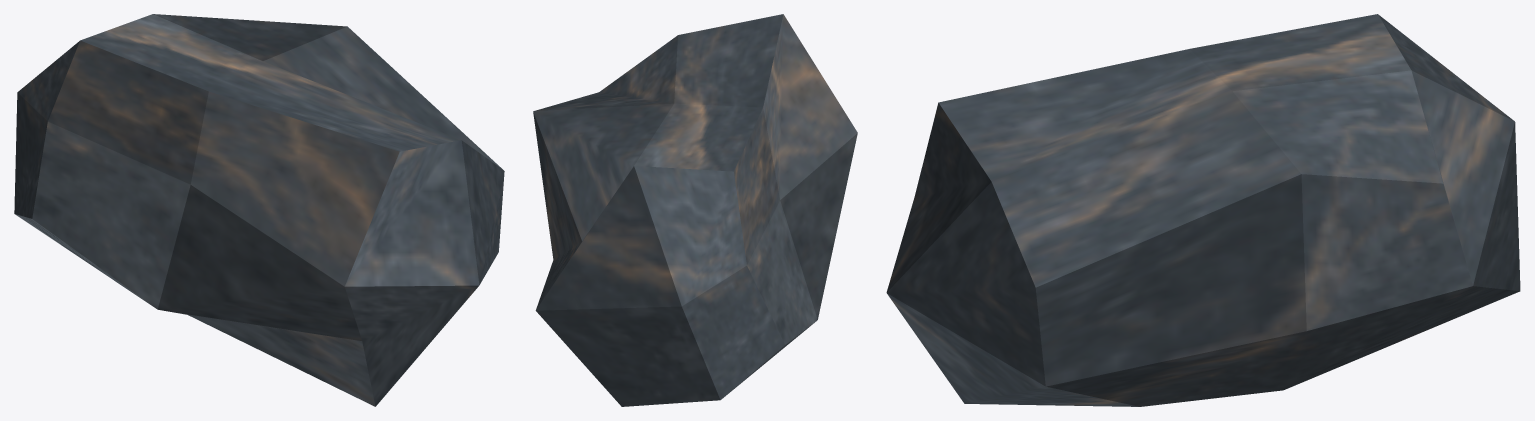
Rendered from low_poly_rock.glb.
The picture shows the model from 3 angles, left to right: view 1: azimuth 30°, elevation 25°; view 2: azimuth 150°, elevation 25°; view 3: azimuth 270°, elevation 25°; orthographic projection. The views are drawn at different scales.
Visible parts, largest first — view 1: Cube_1; view 2: Cube_1; view 3: Cube_1.
Boxes of the visible parts, <box> form: Cube_1: <box>14,14,504,406</box>; Cube_1: <box>533,14,857,406</box>; Cube_1: <box>886,14,1520,406</box>.
Size of the model in its own units: 0.64 by 0.4977 by 0.8951.
Materials: 1 (1 with a texture image).
